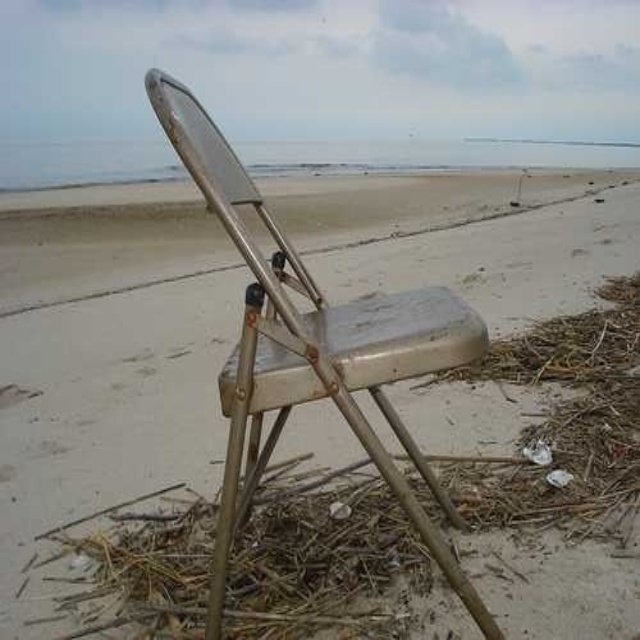obstacle: (145, 68, 502, 637)
